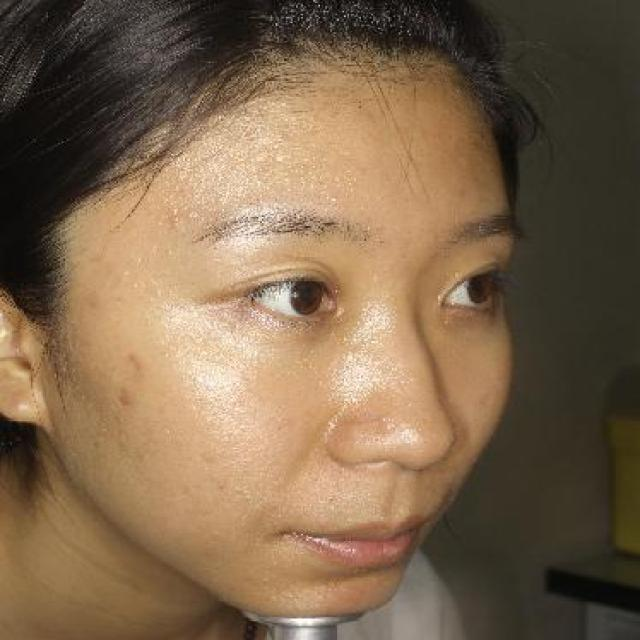darkspot: (119, 347, 148, 376), (111, 386, 138, 412)
nodules: (163, 214, 184, 232)
